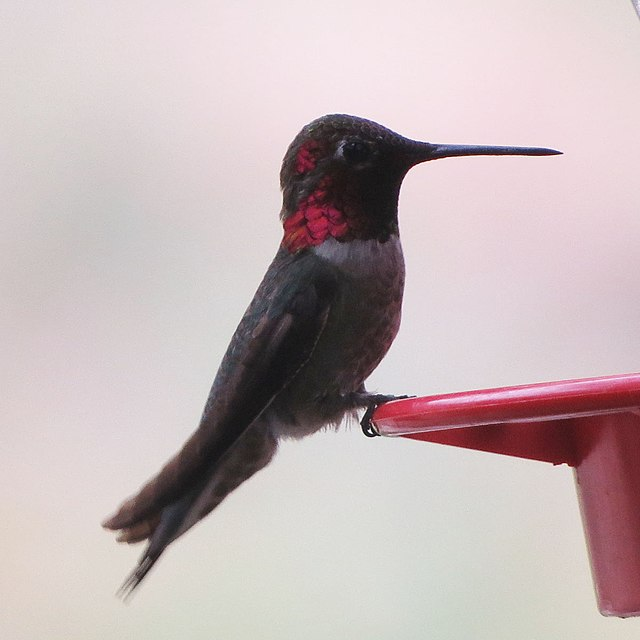calypte anna: (87, 91, 562, 599)
